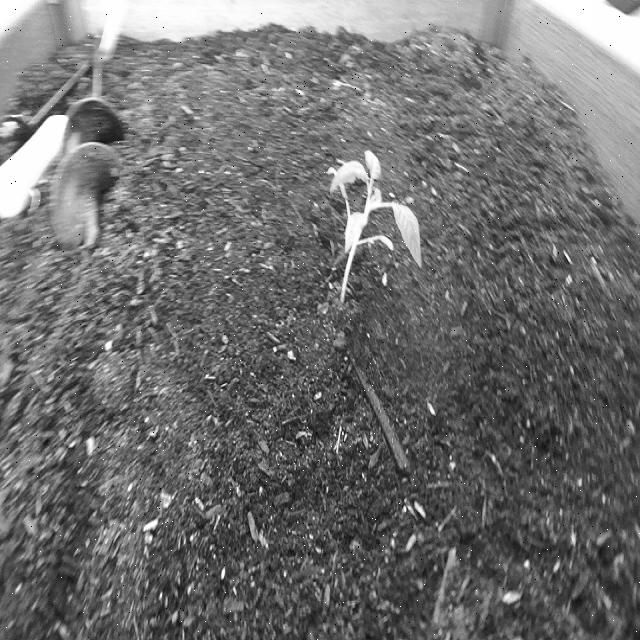Healthy: (322, 146, 428, 316)
